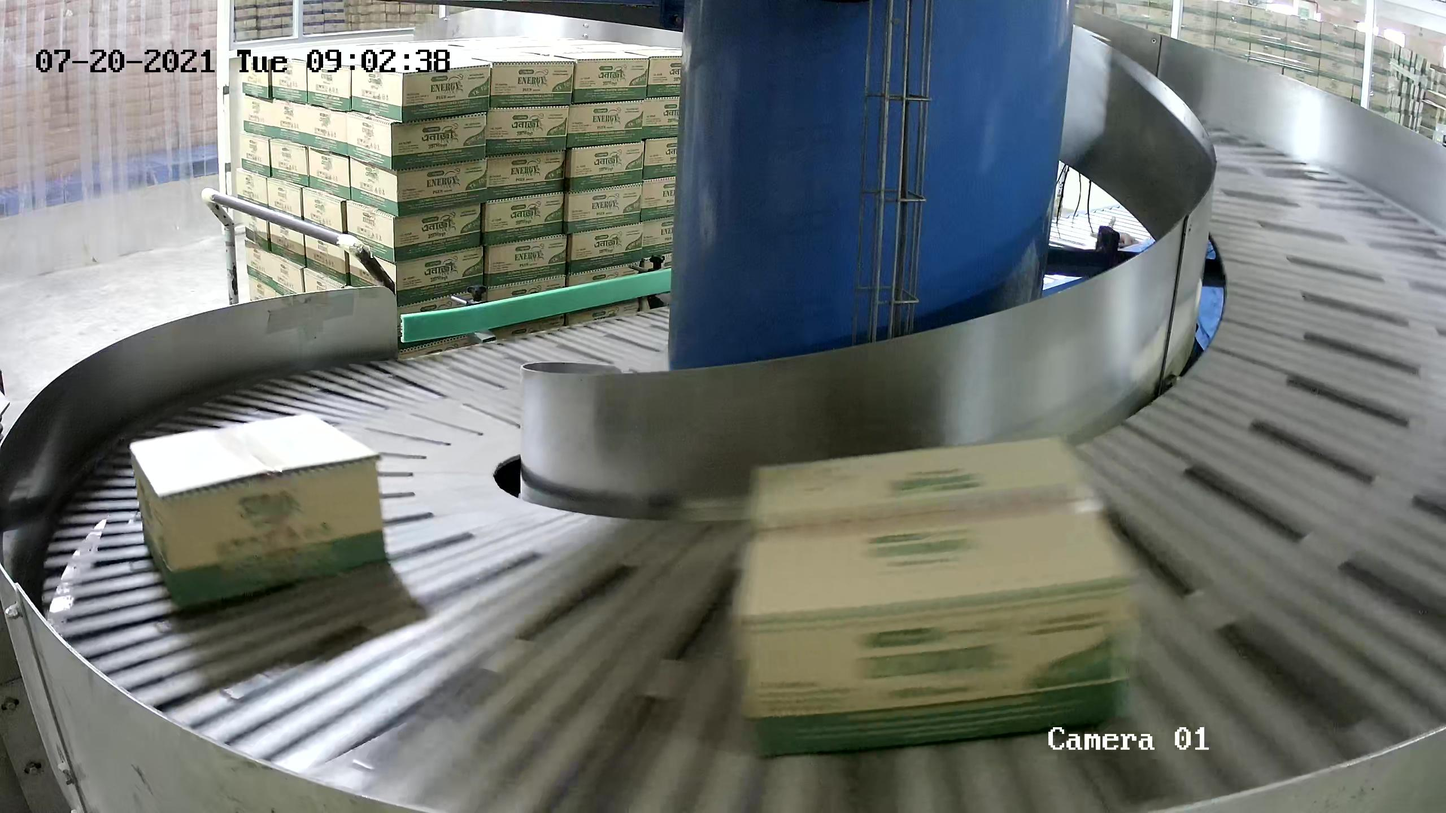Box: (730, 433, 1147, 755), (128, 412, 388, 605)
